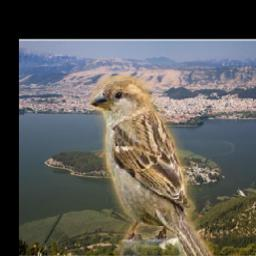Sparrow: (91, 76, 215, 256)
